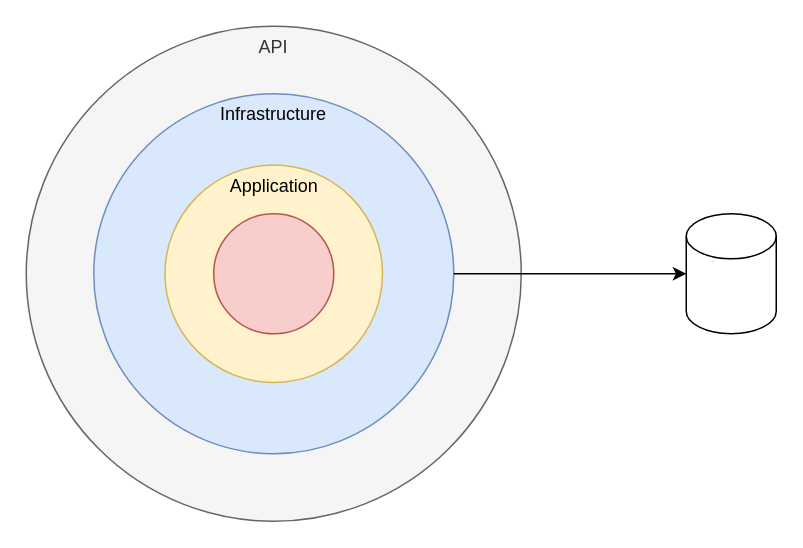
This 803x548 diagram has some shape labels left out. The centre of each missing label's shape, as x and y in pixels:
"DB" belongs at point 730,273.
"Domain" belongs at point 273,273.
